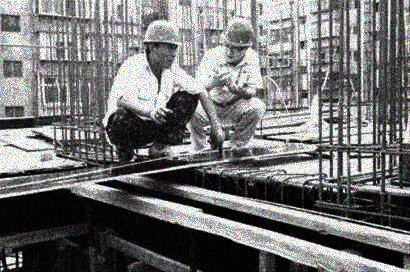helmet: (144, 19, 181, 69), (220, 18, 253, 65)
